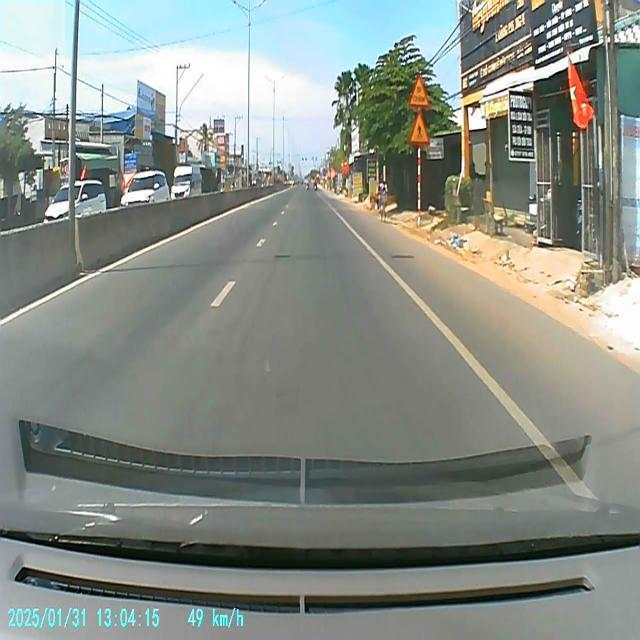224-duong-nguoi-di-bo-cat-ngang: (408, 112, 430, 146)
245-di-cham: (408, 74, 430, 110)
